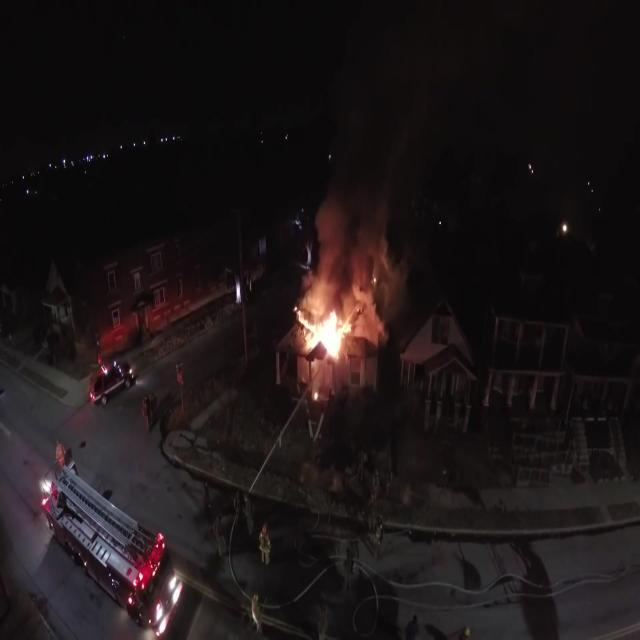Fire: (293, 310, 354, 369)
Smoke: (303, 190, 400, 311)
